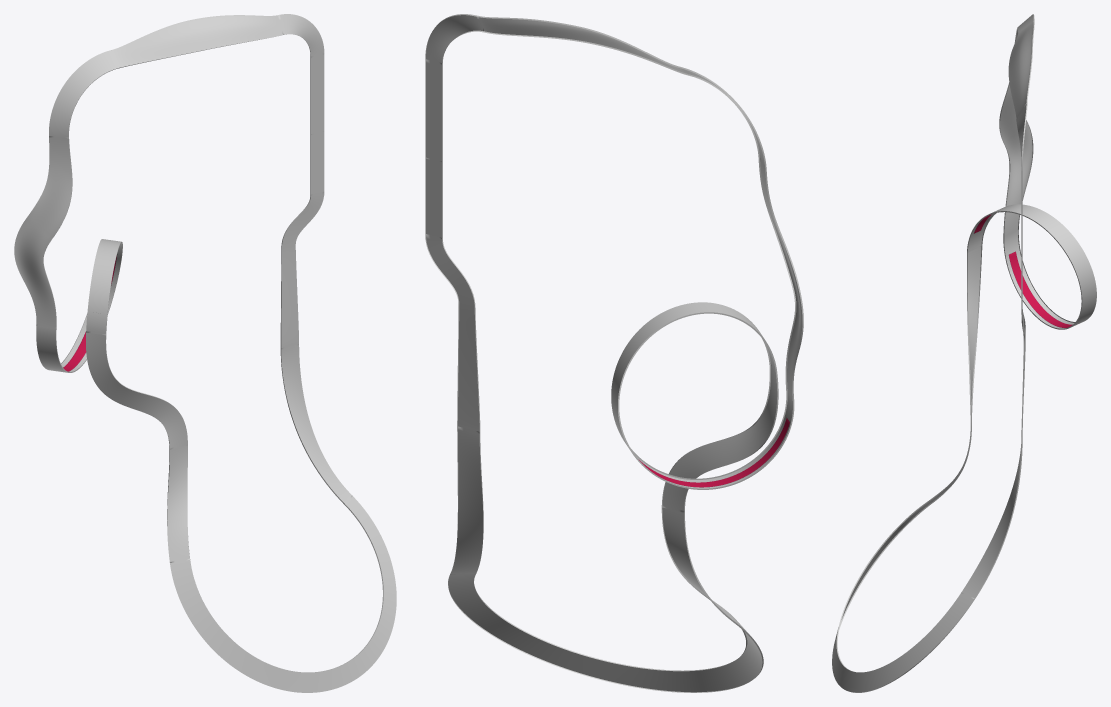
The model's file is track.obj.
The picture shows the model from 3 angles, left to right: view 1: azimuth 30°, elevation 25°; view 2: azimuth 150°, elevation 25°; view 3: azimuth 270°, elevation 25°; orthographic projection. The views are drawn at different scales.
Visible parts, largest first — view 1: MXTRoadSegment.030_PreviewMesh, MXTRoadSegment.016_PreviewMesh, MXTRoadSegment.042_PreviewMesh, MXTRoadSegment.019_PreviewMesh, MXTRoadSegment.024_PreviewMesh, MXTRoadSegment.035_PreviewMesh, MXTRoadSegment.038_PreviewMesh, MXTRoadSegment.027_PreviewMesh, MXTRoadSegment.011_PreviewMesh, MXTRoadSegment.000_PreviewMesh, MXTRoadSegment.003_PreviewMesh, MXTRoadSegment.041_PreviewMesh; view 2: MXTRoadSegment.030_PreviewMesh, MXTRoadSegment.019_PreviewMesh, MXTRoadSegment.038_PreviewMesh, MXTRoadSegment.024_PreviewMesh, MXTRoadSegment.035_PreviewMesh, MXTRoadSegment.042_PreviewMesh, MXTRoadSegment.016_PreviewMesh, MXTRoadSegment.000_PreviewMesh, MXTRoadSegment.027_PreviewMesh, MXTRoadSegment.003_PreviewMesh, MXTRoadSegment.041_PreviewMesh, MXTRoadSegment.011_PreviewMesh; view 3: MXTRoadSegment.019_PreviewMesh, MXTRoadSegment.030_PreviewMesh, MXTRoadSegment.016_PreviewMesh, MXTRoadSegment.035_PreviewMesh, MXTRoadSegment.042_PreviewMesh, MXTRoadSegment.024_PreviewMesh.
Part boxes in pixels (box(x1,y1,x2,y2)): MXTRoadSegment.030_PreviewMesh: box(170, 495, 396, 692); MXTRoadSegment.016_PreviewMesh: box(14, 137, 72, 328); MXTRoadSegment.042_PreviewMesh: box(111, 15, 282, 68); MXTRoadSegment.019_PreviewMesh: box(36, 239, 122, 372); MXTRoadSegment.024_PreviewMesh: box(86, 332, 187, 449); MXTRoadSegment.035_PreviewMesh: box(280, 344, 351, 504); MXTRoadSegment.038_PreviewMesh: box(280, 191, 324, 348); MXTRoadSegment.027_PreviewMesh: box(167, 445, 190, 562); MXTRoadSegment.011_PreviewMesh: box(49, 50, 119, 138); MXTRoadSegment.000_PreviewMesh: box(310, 53, 324, 134); MXTRoadSegment.003_PreviewMesh: box(278, 14, 324, 56); MXTRoadSegment.041_PreviewMesh: box(310, 131, 324, 194); MXTRoadSegment.030_PreviewMesh: box(448, 573, 763, 692); MXTRoadSegment.019_PreviewMesh: box(611, 302, 794, 489); MXTRoadSegment.038_PreviewMesh: box(425, 234, 480, 431); MXTRoadSegment.024_PreviewMesh: box(661, 365, 778, 512); MXTRoadSegment.035_PreviewMesh: box(450, 426, 483, 574); MXTRoadSegment.042_PreviewMesh: box(477, 15, 689, 75); MXTRoadSegment.016_PreviewMesh: box(758, 158, 803, 399); MXTRoadSegment.000_PreviewMesh: box(425, 59, 442, 161); MXTRoadSegment.027_PreviewMesh: box(661, 507, 733, 621); MXTRoadSegment.003_PreviewMesh: box(425, 14, 484, 63); MXTRoadSegment.041_PreviewMesh: box(425, 157, 442, 238); MXTRoadSegment.011_PreviewMesh: box(679, 66, 766, 170); MXTRoadSegment.019_PreviewMesh: box(967, 204, 1096, 329); MXTRoadSegment.030_PreviewMesh: box(832, 502, 974, 692); MXTRoadSegment.016_PreviewMesh: box(999, 82, 1033, 236); MXTRoadSegment.035_PreviewMesh: box(961, 442, 1022, 598); MXTRoadSegment.042_PreviewMesh: box(1008, 21, 1034, 118); MXTRoadSegment.024_PreviewMesh: box(967, 246, 982, 425).
Bounding box in the file's own units: 2175 × 3903 × 1544.
